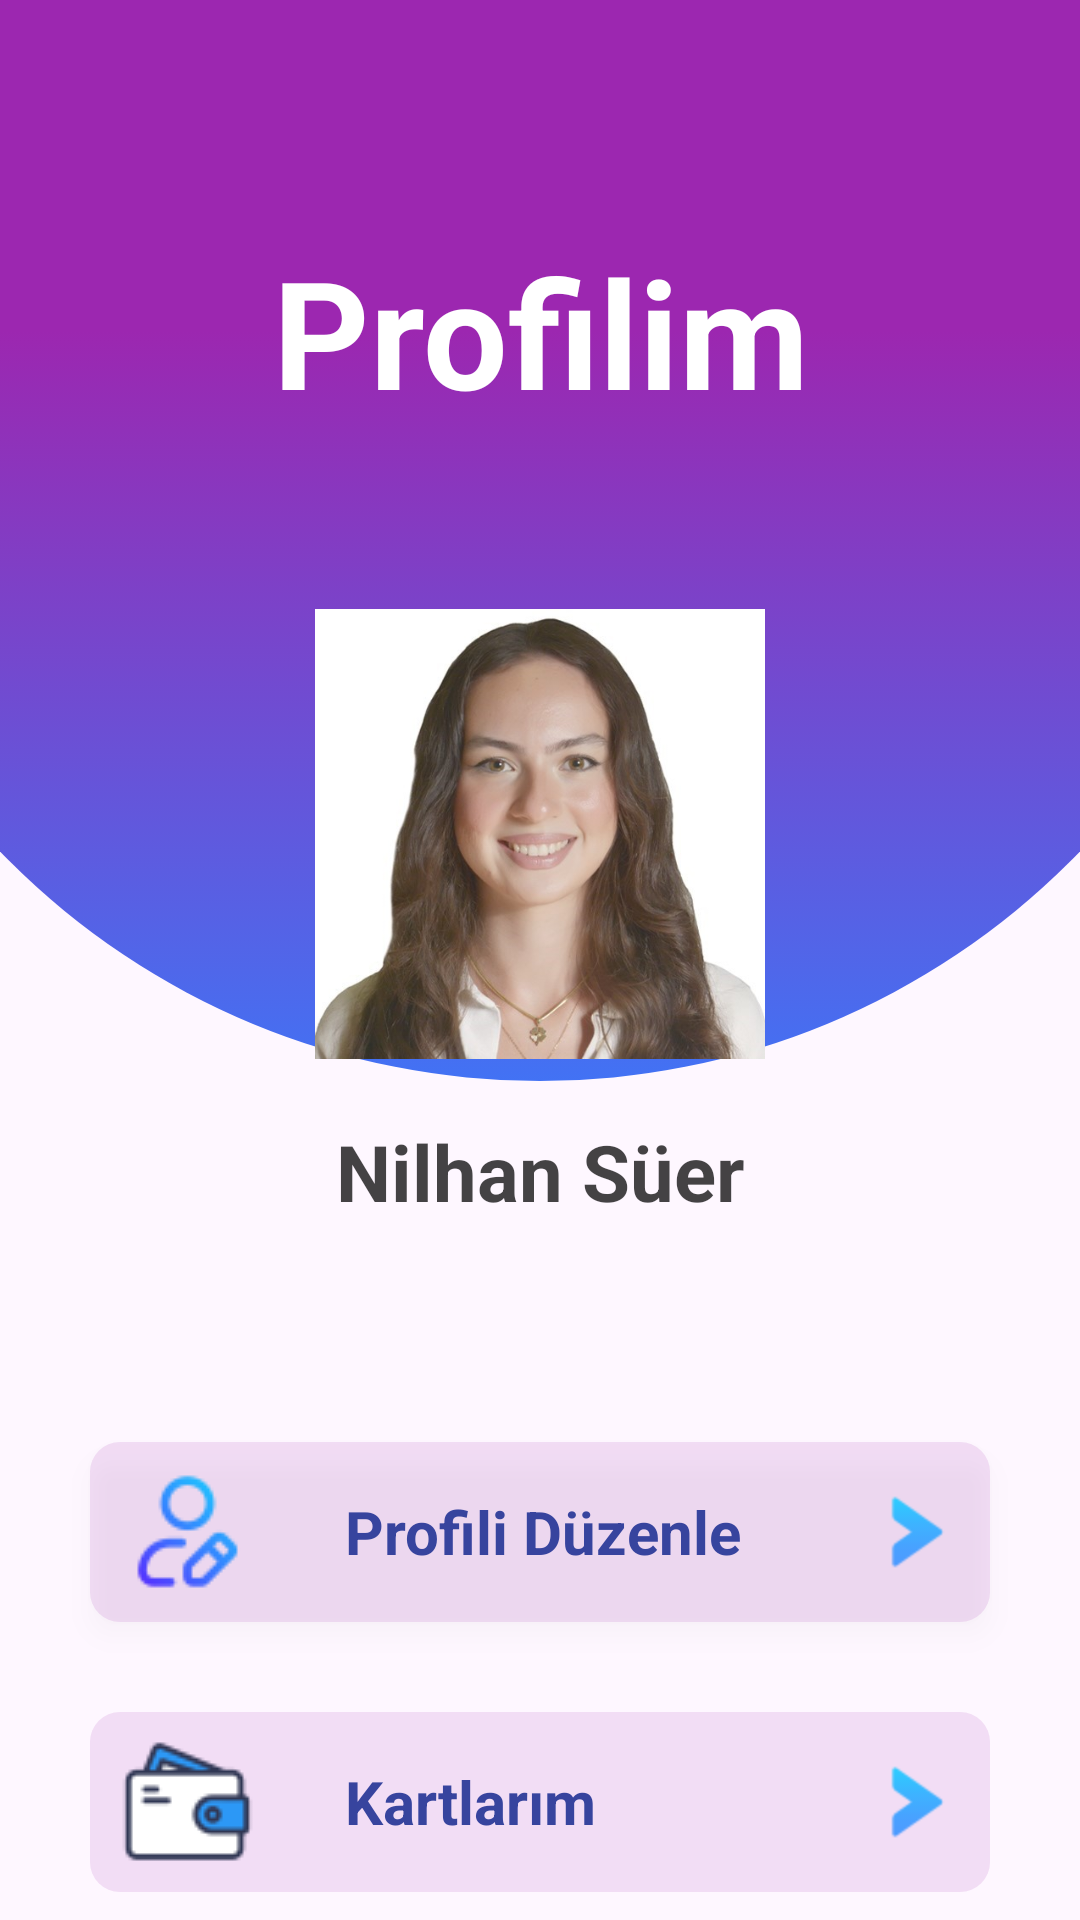

Icon bounding boxes for this 1080px x 1920px phone screenshot, format Rect(x1, y1, x2, y2):
arrow: Rect(891, 1497, 943, 1567), Rect(891, 1766, 943, 1837)
edit profile: Rect(137, 1475, 238, 1588)
wallet: Rect(124, 1742, 250, 1861)
